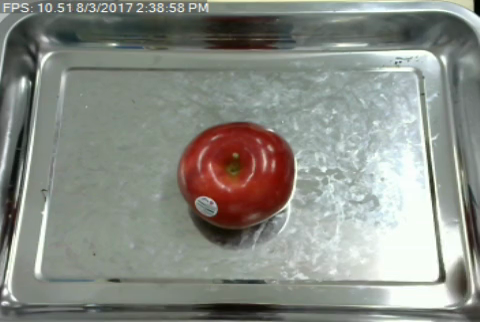Apple: (173, 116, 301, 237)
